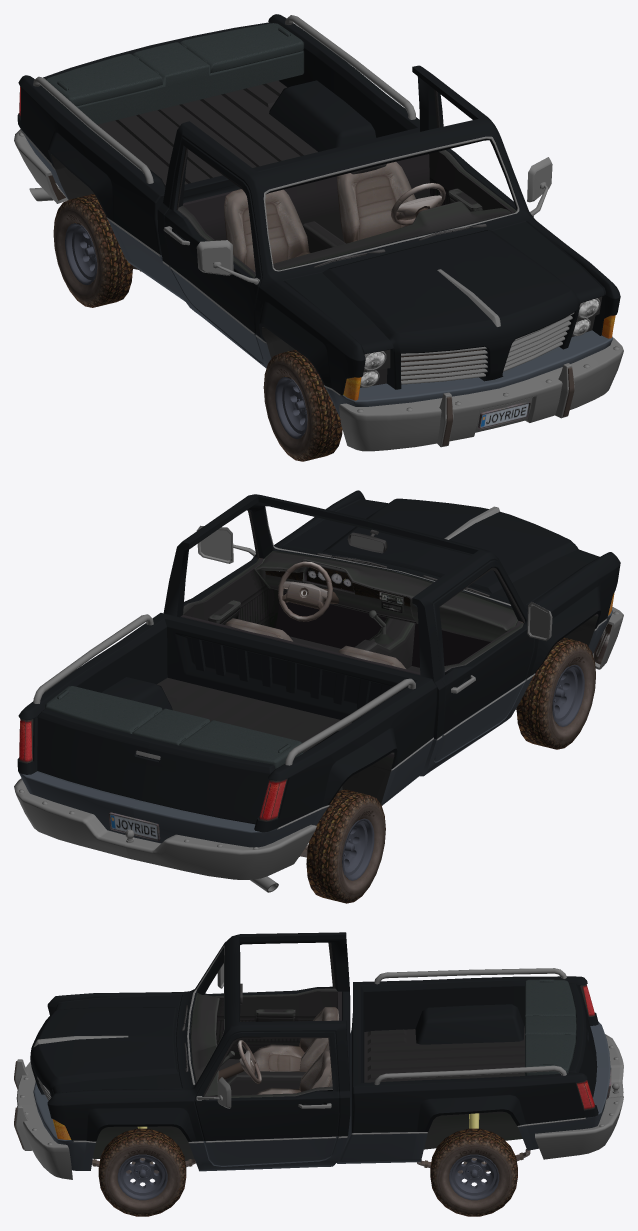
Rendered from offroad1.glb.
3 renders of one model, top to bottom at view 1: azimuth 30°, elevation 25°; view 2: azimuth 150°, elevation 25°; view 3: azimuth 270°, elevation 25°, orthographic. The views are drawn at different scales.
Visible parts, largest first — view 1: node_id448, node_id450, node_id464, node_id423, node_id452, node_id437, node_id446, node_id415, node_id408, node_id410, node_id417, node_id406 (+11 smaller); view 2: node_id448, node_id450, node_id452, node_id428, node_id464, node_id415, node_id408, node_id439, node_id410, node_id417, node_id406, node_id413 (+8 smaller); view 3: node_id448, node_id450, node_id452, node_id464, node_id437, node_id428, node_id423, node_id394, node_id401, node_id396, node_id403, node_id392 (+8 smaller).
Boxes of the visible parts, bbox=[...] form: node_id448: bbox=[17, 14, 620, 395]; node_id450: bbox=[51, 80, 602, 387]; node_id464: bbox=[46, 23, 304, 124]; node_id423: bbox=[339, 337, 623, 451]; node_id452: bbox=[19, 126, 612, 417]; node_id437: bbox=[224, 161, 415, 271]; node_id446: bbox=[20, 129, 600, 396]; node_id415: bbox=[53, 194, 132, 307]; node_id408: bbox=[263, 349, 342, 461]; node_id410: bbox=[264, 362, 311, 454]; node_id417: bbox=[54, 208, 101, 300]; node_id406: bbox=[275, 377, 322, 439]; node_id448: bbox=[17, 490, 620, 832]; node_id450: bbox=[157, 509, 598, 803]; node_id452: bbox=[18, 571, 612, 847]; node_id428: bbox=[14, 778, 316, 879]; node_id464: bbox=[44, 686, 304, 768]; node_id415: bbox=[306, 789, 385, 903]; node_id408: bbox=[516, 637, 595, 749]; node_id439: bbox=[278, 561, 332, 621]; node_id410: bbox=[528, 650, 595, 742]; node_id417: bbox=[338, 804, 385, 896]; node_id406: bbox=[536, 664, 584, 726]; node_id413: bbox=[331, 818, 374, 880]; node_id448: bbox=[30, 932, 598, 1141]; node_id450: bbox=[93, 942, 524, 1160]; node_id452: bbox=[33, 1022, 610, 1171]; node_id464: bbox=[525, 979, 576, 1075]; node_id437: bbox=[253, 1007, 338, 1094]; node_id428: bbox=[535, 1034, 623, 1159]; node_id423: bbox=[15, 1059, 72, 1179]; node_id394: bbox=[98, 1128, 186, 1216]; node_id401: bbox=[430, 1128, 517, 1216]; node_id396: bbox=[105, 1145, 179, 1212]; node_id403: bbox=[436, 1145, 511, 1212]; node_id392: bbox=[117, 1154, 167, 1200].
Size of the model in its own units: 0.512 by 0.3249 by 0.9686.
46 materials, 46 textured.
